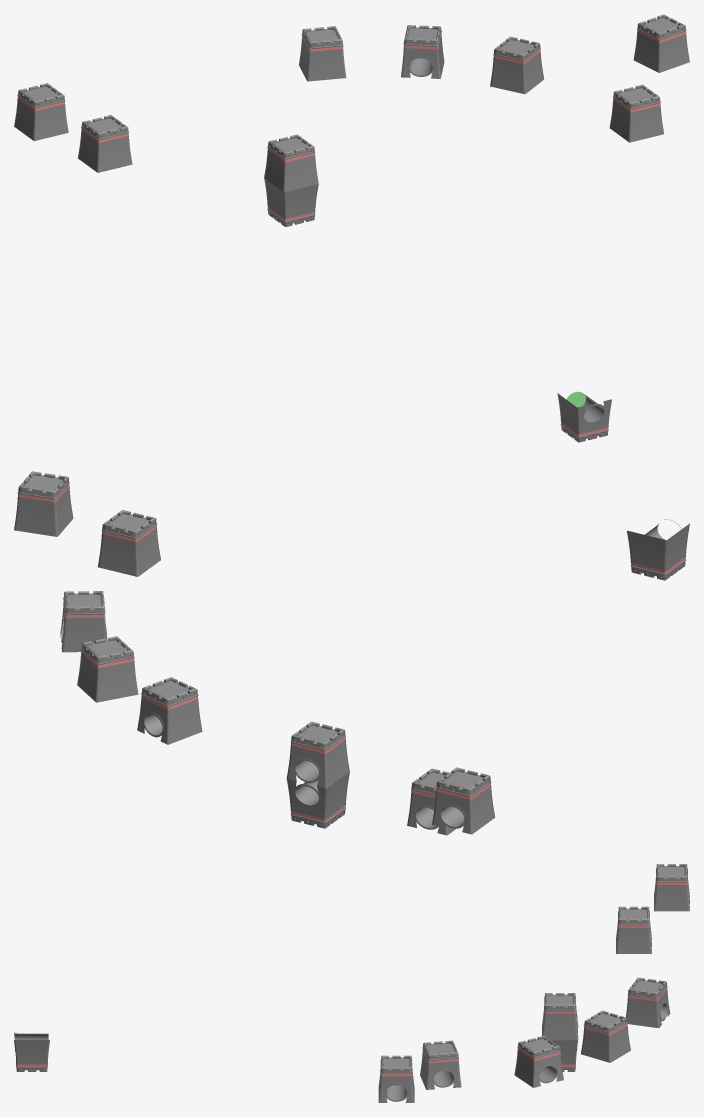
The model's file is CHN_OOB_GuardTower02_CMB.gltf.
3 renders of one model, top to bottom at view 1: azimuth 30°, elevation 25°; view 2: azimuth 150°, elevation 25°; view 3: azimuth 270°, elevation 25°, orthographic. The views are drawn at different scales.
Parts seen in each view (by area): view 1: CHN_OOB_GuardTower02_CMB; view 2: CHN_OOB_GuardTower02_CMB; view 3: CHN_OOB_GuardTower02_CMB.
Part boxes in pixels (x1=…): CHN_OOB_GuardTower02_CMB: x1=14, y1=14, x2=689, y2=442; CHN_OOB_GuardTower02_CMB: x1=14, y1=471, x2=689, y2=835; CHN_OOB_GuardTower02_CMB: x1=14, y1=864, x2=689, y2=1102.
Size of the model in its own units: 196 by 59.81 by 241.
